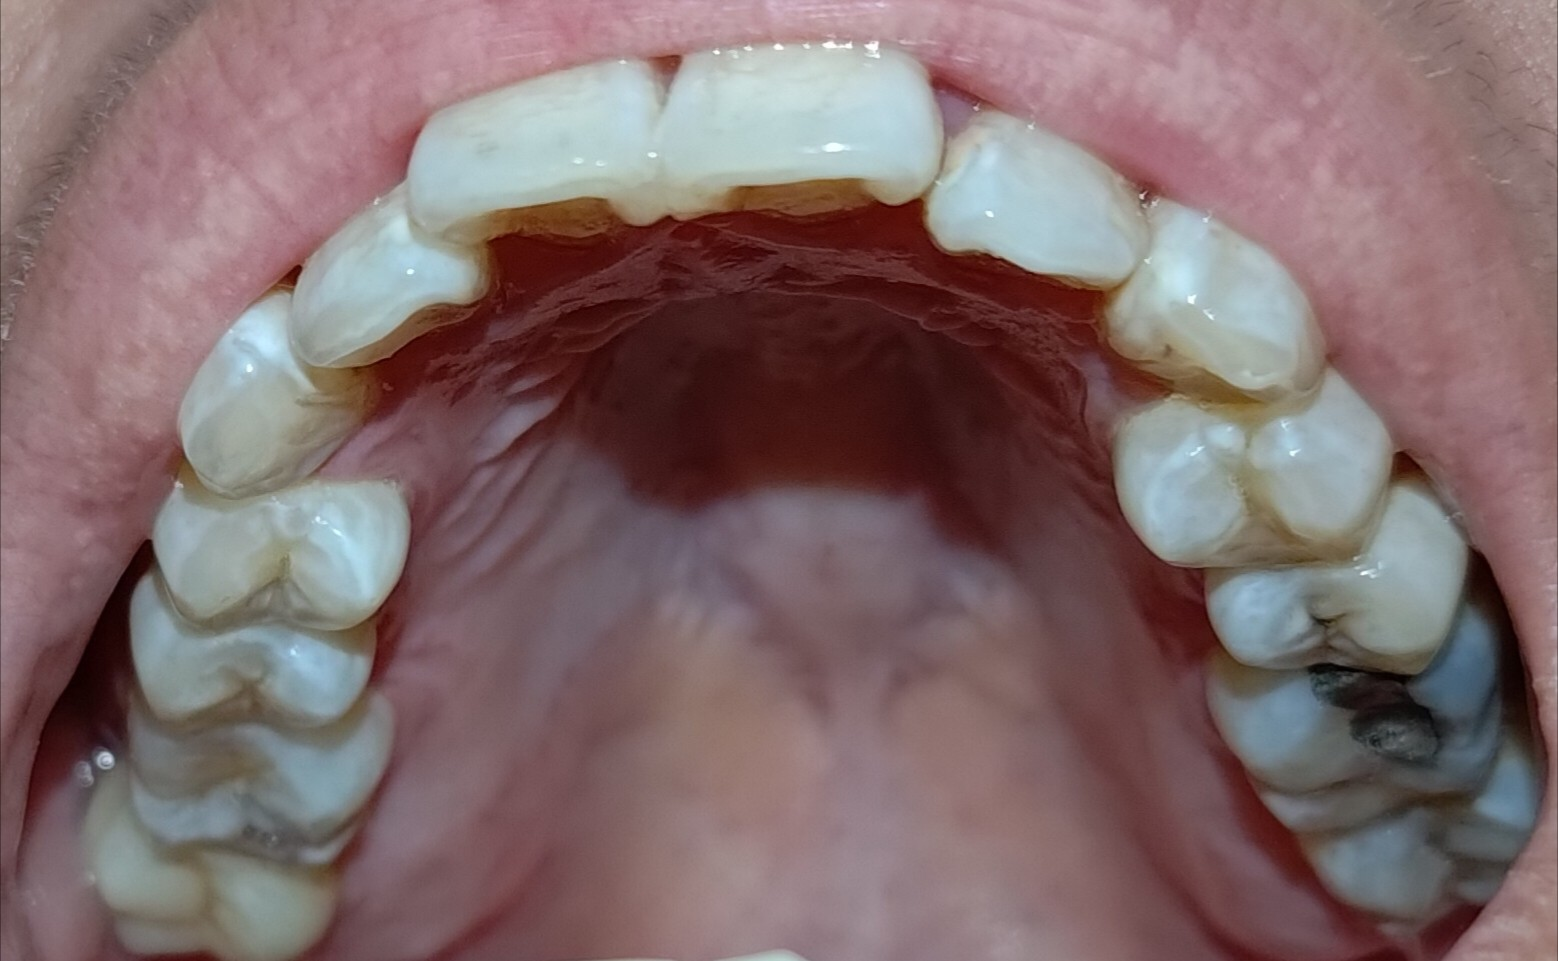teeth: (1203, 604, 1508, 823), (1114, 371, 1391, 563), (1205, 484, 1467, 672), (662, 42, 945, 213), (405, 56, 663, 233), (1114, 196, 1333, 400), (123, 703, 393, 864), (94, 777, 325, 956), (152, 472, 411, 625), (187, 284, 376, 493), (133, 574, 381, 725), (299, 182, 491, 367), (934, 110, 1148, 275)
